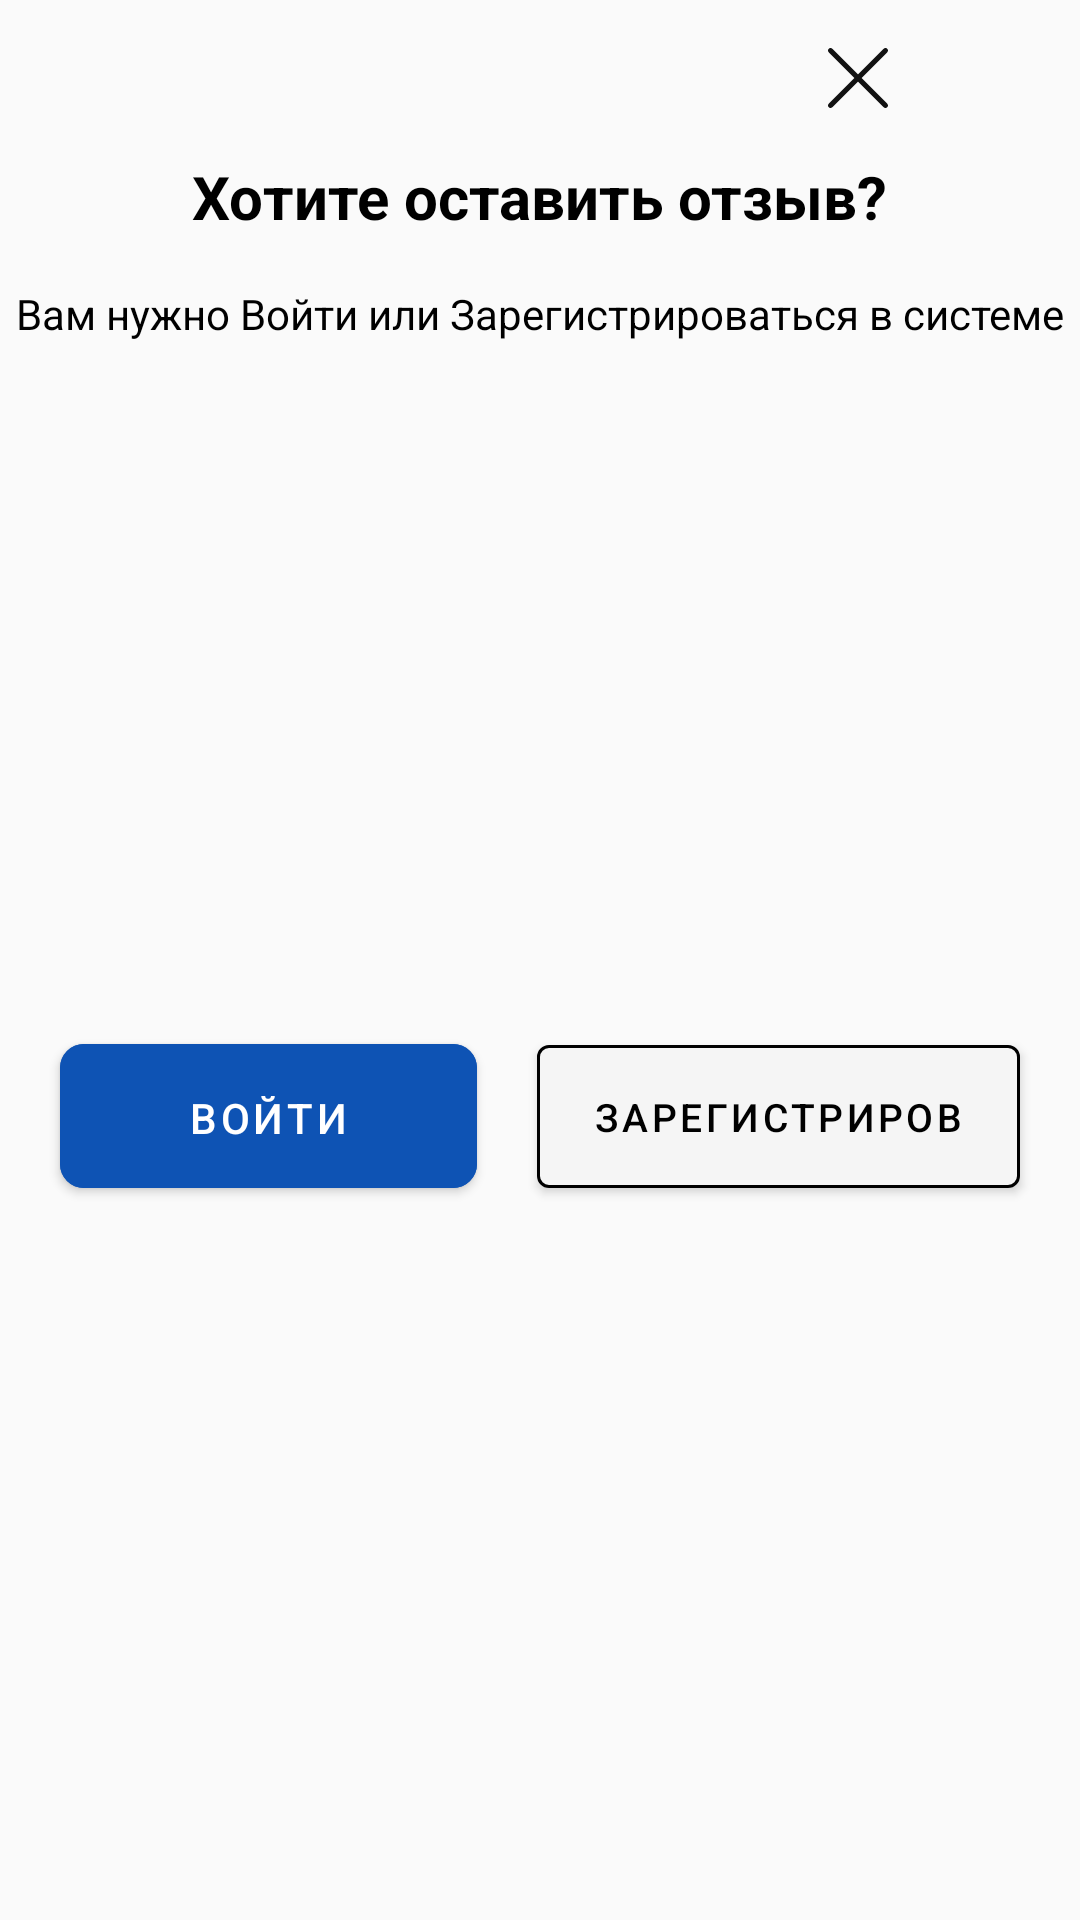

Point at icon controls on the screen. Image size 1080 × 1920, points as [x,y].
close: [858,78]
